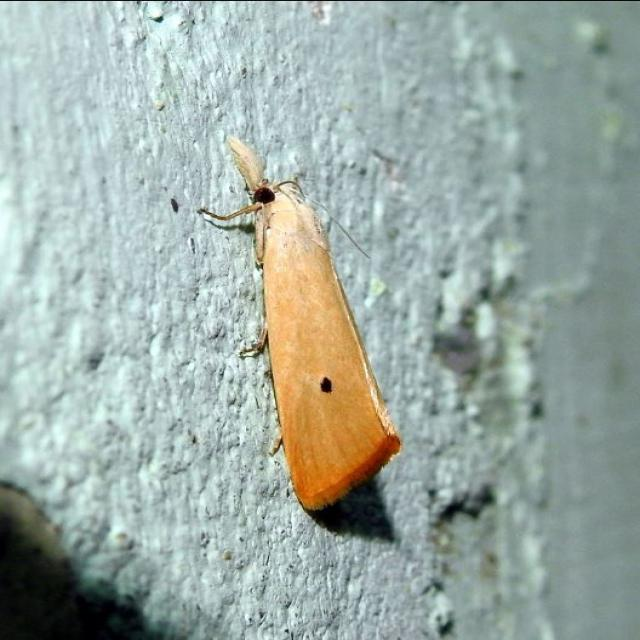rice stem borer -penggerek batang padi-: (193, 134, 405, 514)
